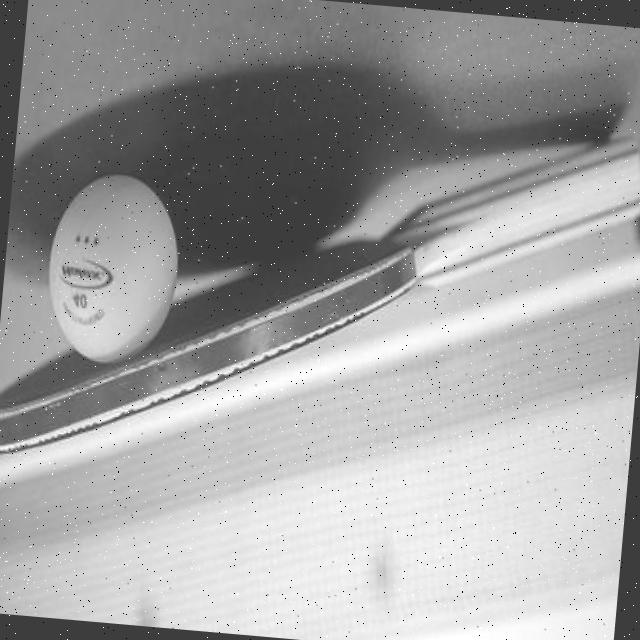ping-pong-ball: (35, 166, 188, 376)
